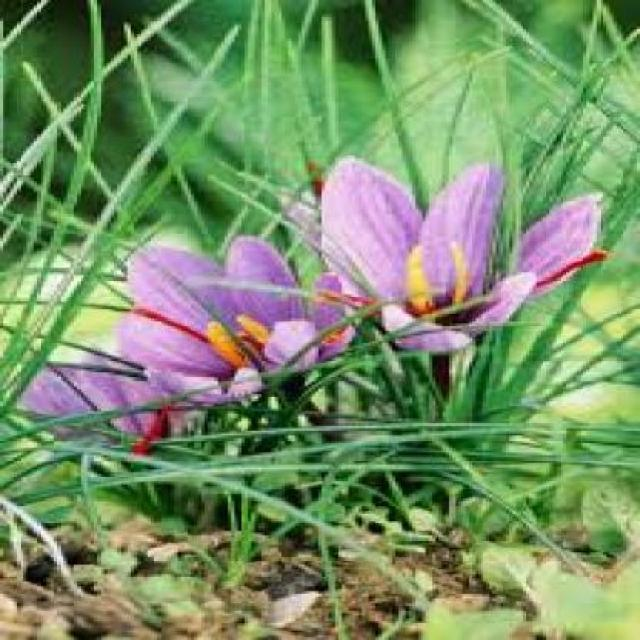Flower: (319, 155, 610, 362), (117, 237, 343, 406)
stigma: (129, 300, 209, 341), (538, 244, 614, 286)
